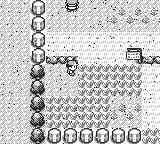captura: (46, 64, 142, 128), (142, 128, 159, 143)
leer: (126, 48, 142, 63)
main: (66, 59, 79, 76)
no-caminable: (46, 128, 141, 143), (30, 65, 46, 143), (30, 0, 46, 64)
npc: (65, 0, 79, 12)
salto: (46, 56, 78, 64), (142, 55, 160, 64)
